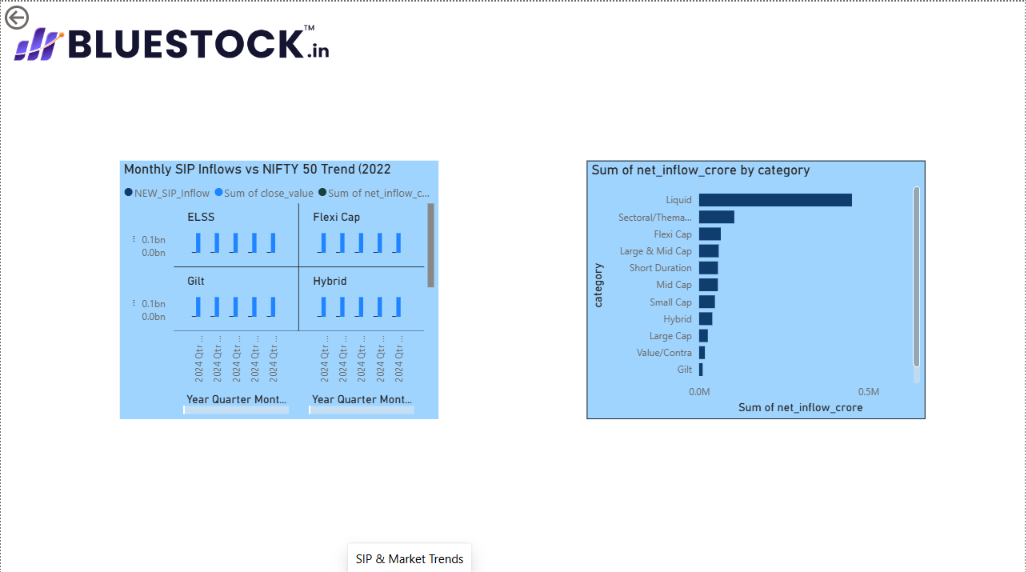

What the dashboard file says about the page in this screenshot:
{"tool":"powerbi","page":{"name":"SIP & Market Trends","canvas":[1280,720],"ordinal":3},"visuals":[{"type":"actionButton","box":[0,0,100,40],"z":1000},{"type":"clusteredBarChart","fields":{"Category":["05_category_inflows_cleaned.category"],"Y":["Sum(05_category_inflows_cleaned.net_inflow_crore)"]},"box":[732.9,198.6,422.9,322.9],"z":1002},{"type":"lineClusteredColumnComboChart","title":"Monthly SIP Inflows vs NIFTY 50 Trend (2022","fields":{"Y":["04_monthly_sip_inflows_cleaned.NEW_SIP_Inflow","Sum(10_benchmark_indices_cleaned.close_value)","Sum(05_category_inflows_cleaned.net_inflow_crore)"],"Category":["05_category_inflows_cleaned.month.Variation.Date Hierarchy.Year","05_category_inflows_cleaned.month.Variation.Date Hierarchy.Quarter","05_category_inflows_cleaned.month.Variation.Date Hierarchy.Month","05_category_inflows_cleaned.month.Variation.Date Hierarchy.Day"],"Rows":["05_category_inflows_cleaned.category"]},"box":[148.6,198.6,398.6,322.9],"z":1003},{"type":"image","box":[15,0,398.8,102.5],"z":1004}]}

Visuals, with their boxes on the page's 1280x720 design canvas (x1, y1, x2, y2). These are canvas units, not pixel positions in the 1026x572 screenshot, which may show the page scaled, cropped or inside an application window:
actionButton: (0,0,100,40)
clusteredBarChart - 05_category_inflows_cleaned.category x Sum(05_category_inflows_cleaned.net_inflow_crore): (733,199,1156,522)
"Monthly SIP Inflows vs NIFTY 50 Trend (2022" lineClusteredColumnComboChart: (149,199,547,522)
image: (15,0,414,102)
